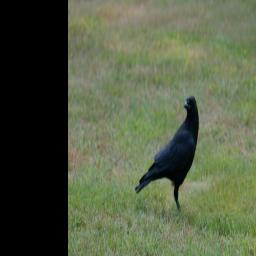Crow: (134, 92, 199, 213)
